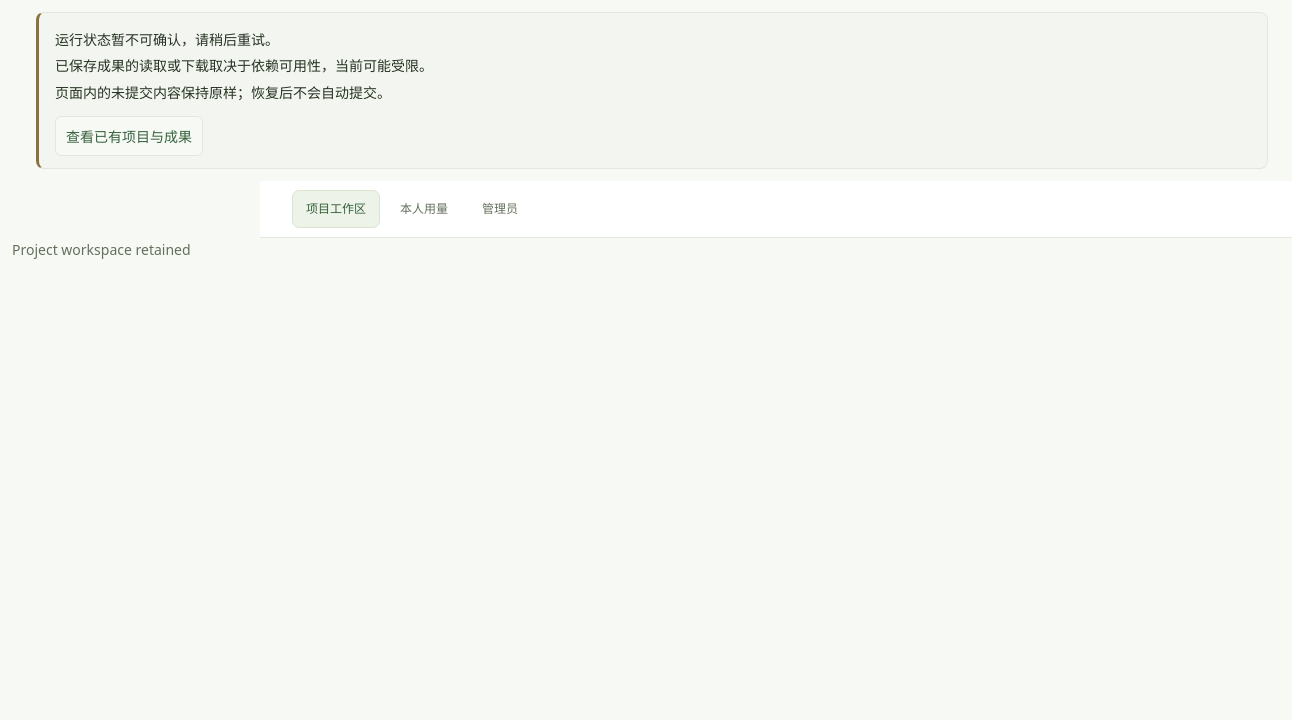
Test: shows server-confirmed admin and own usage while preserving projects
expect the text "Project workspace retained" is shown: met, box x1=12 y1=240 x2=191 y2=259
Click the button "管理员": [500, 209] box x1=468 y1=190 x2=532 y2=228
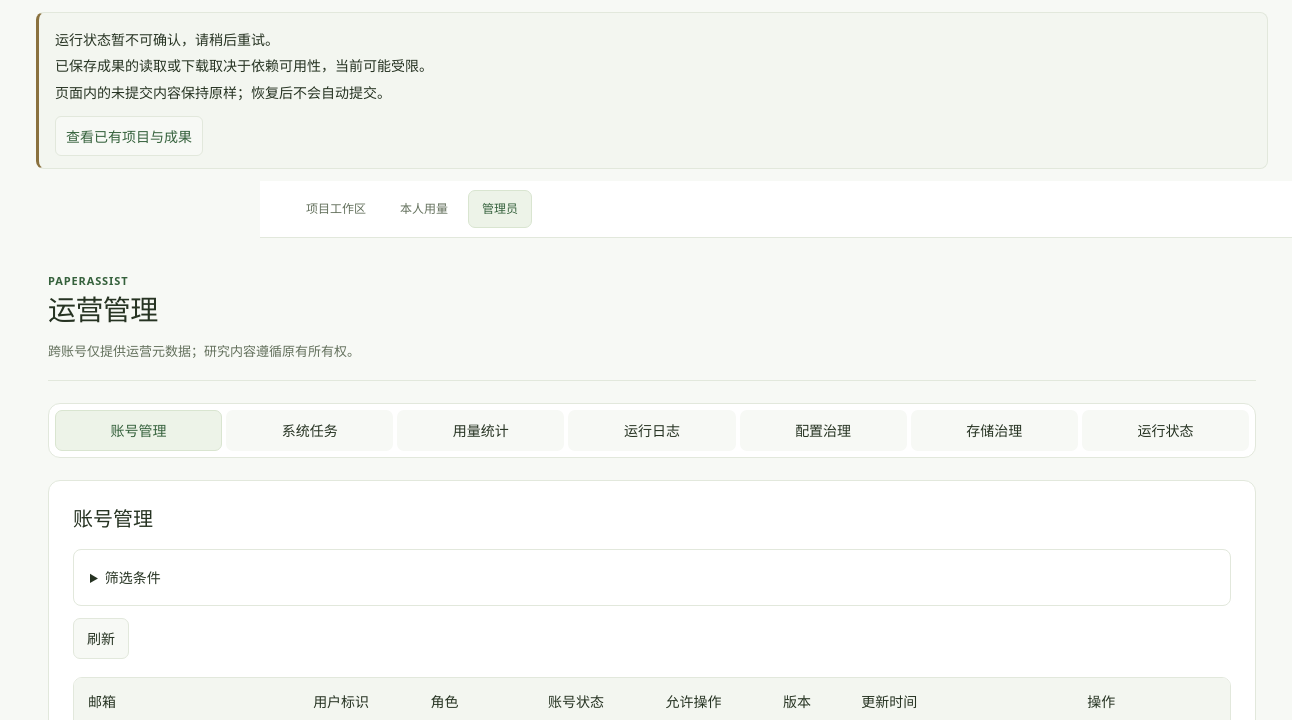
Click the button "项目工作区": [336, 209] box x1=292 y1=190 x2=380 y2=228
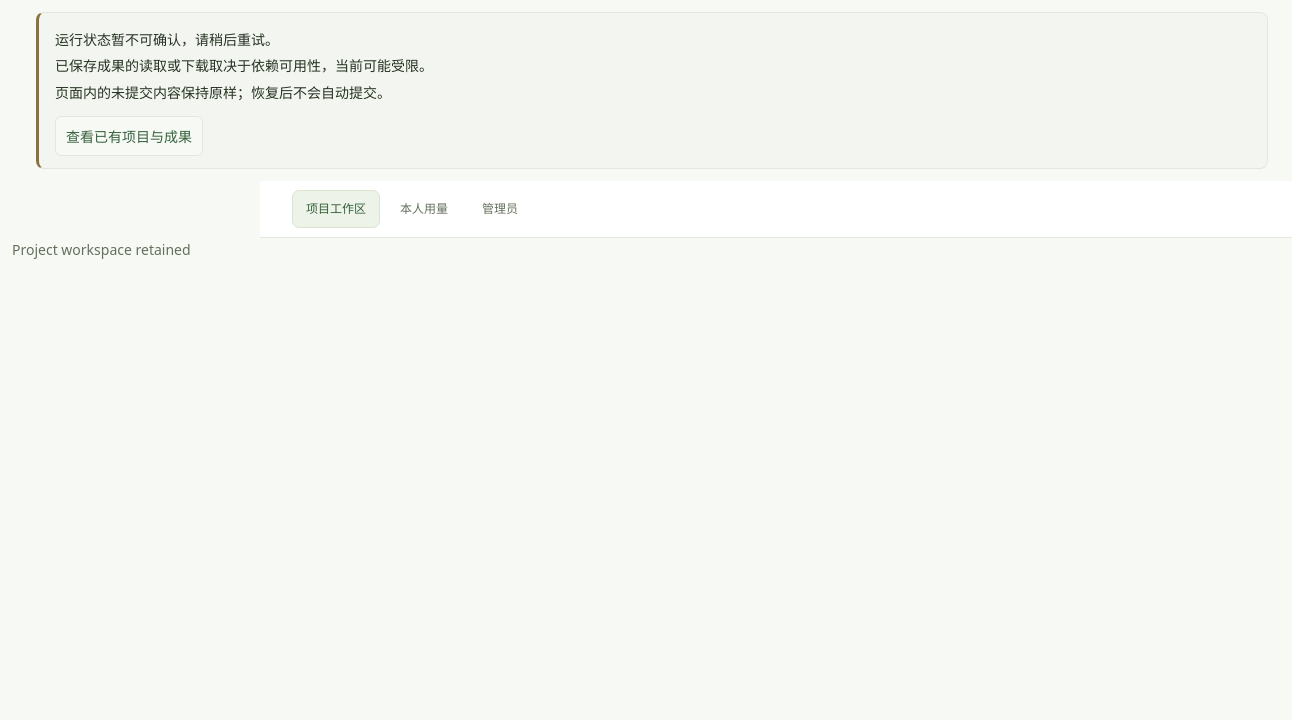
expect the text "Project workspace retained" is shown: met, box x1=12 y1=240 x2=191 y2=259
